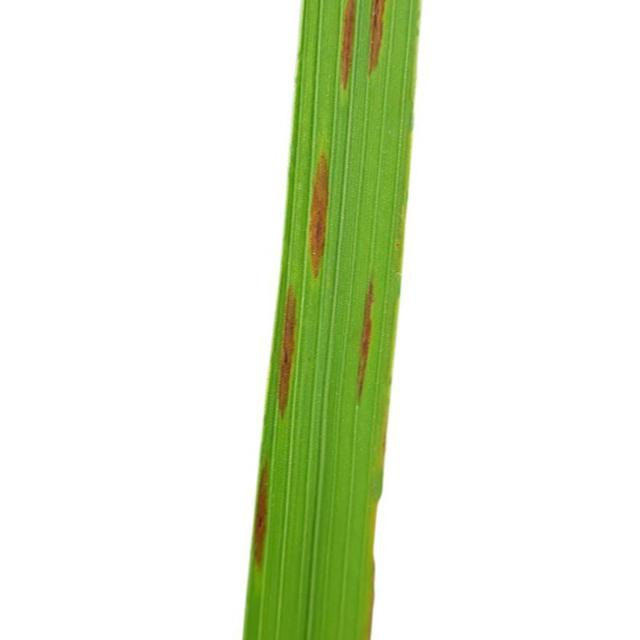Narrow brown: (200, 1, 518, 640)
